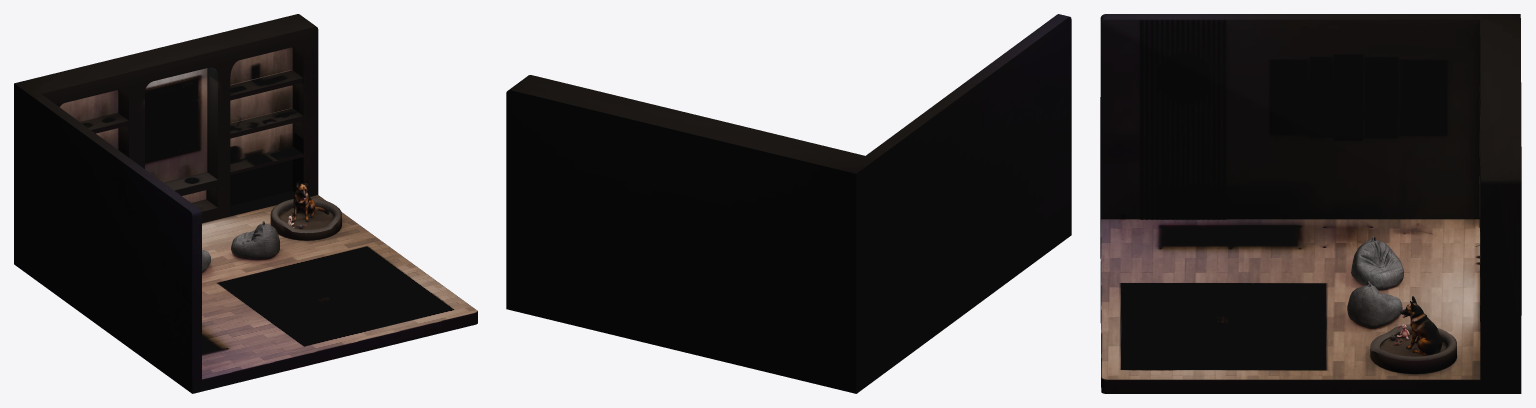
The model's file is DarkOffice1st.glb.
3 views of the same model, side by side, from view 1: azimuth 30°, elevation 25°; view 2: azimuth 150°, elevation 25°; view 3: azimuth 270°, elevation 25° (orthographic). The views are drawn at different scales.
Visible parts, largest first — view 1: Wall1k_Baked, DogBed1k_Baked, BeanBags2, Shepherd1k_Baked; view 2: Wall1k_Baked; view 3: Wall1k_Baked, BeanBags2, DogBed1k_Baked, Shepherd1k_Baked.
Boxes of the visible parts, <box> form: Wall1k_Baked: <box>14,14,477,393</box>; DogBed1k_Baked: <box>270,198,341,240</box>; BeanBags2: <box>202,221,279,272</box>; Shepherd1k_Baked: <box>291,179,328,222</box>; Wall1k_Baked: <box>506,14,1071,393</box>; Wall1k_Baked: <box>1100,14,1521,393</box>; BeanBags2: <box>1347,236,1403,327</box>; DogBed1k_Baked: <box>1370,324,1456,373</box>; Shepherd1k_Baked: <box>1399,296,1442,355</box>.
Size of what is drawn, in the model's own units: 5 by 3.01 by 5.35.
6 materials, 6 textured.
